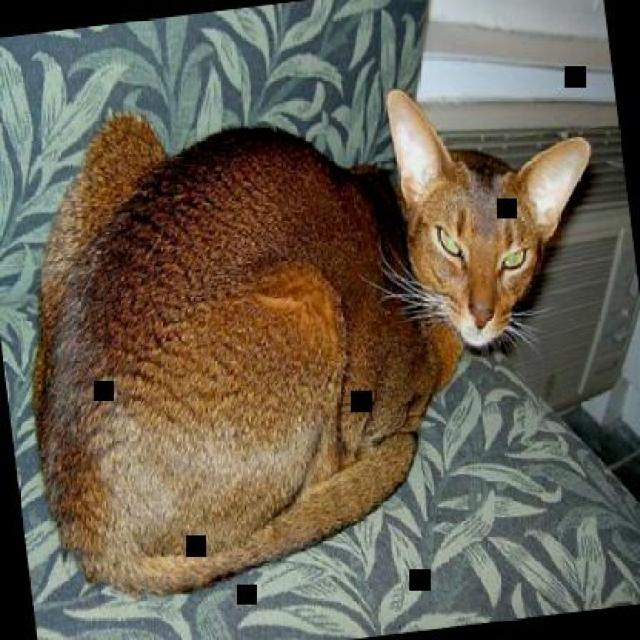cat: (0, 55, 638, 607)
